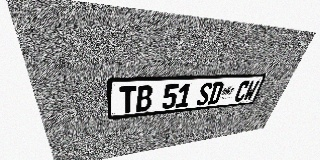1: (175, 83, 193, 108)
5: (162, 84, 179, 109)
B: (136, 85, 153, 112)
C: (233, 80, 251, 102)
D: (207, 82, 225, 105)
S: (196, 82, 213, 106)
T: (120, 85, 137, 114)
W: (242, 80, 260, 101)
